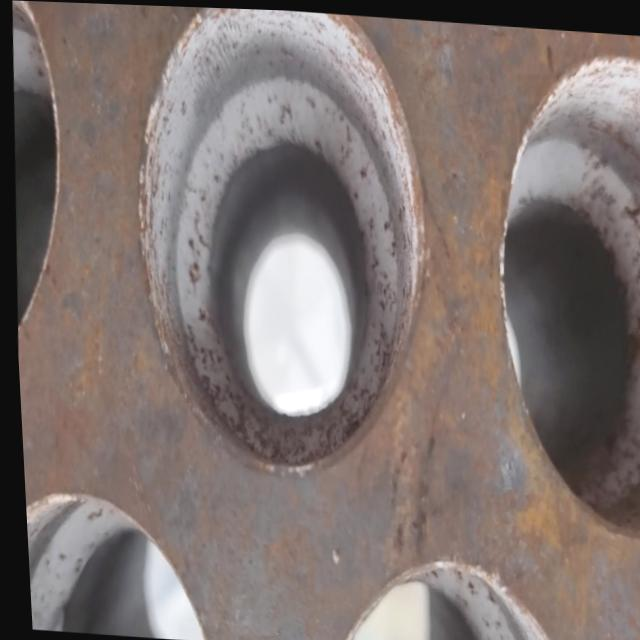Hole: (119, 3, 439, 481), (477, 33, 640, 539), (20, 485, 214, 640), (320, 545, 575, 640)
